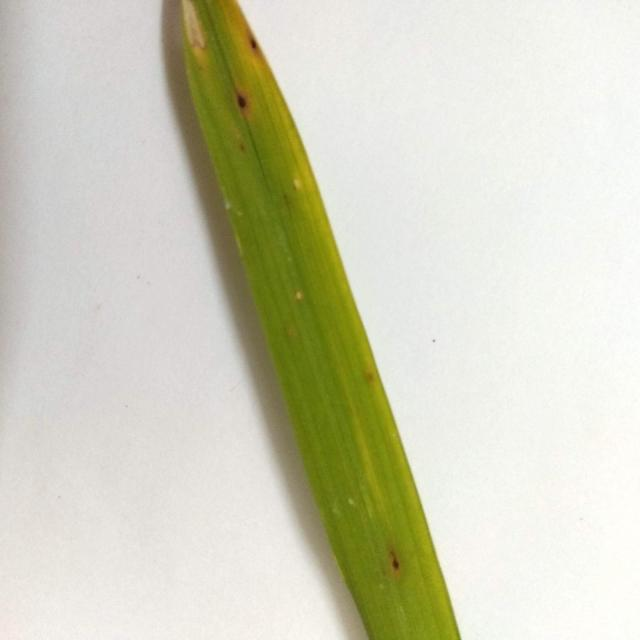Brown spot: (384, 536, 412, 582), (229, 86, 255, 117), (246, 26, 258, 59), (362, 362, 376, 388)
